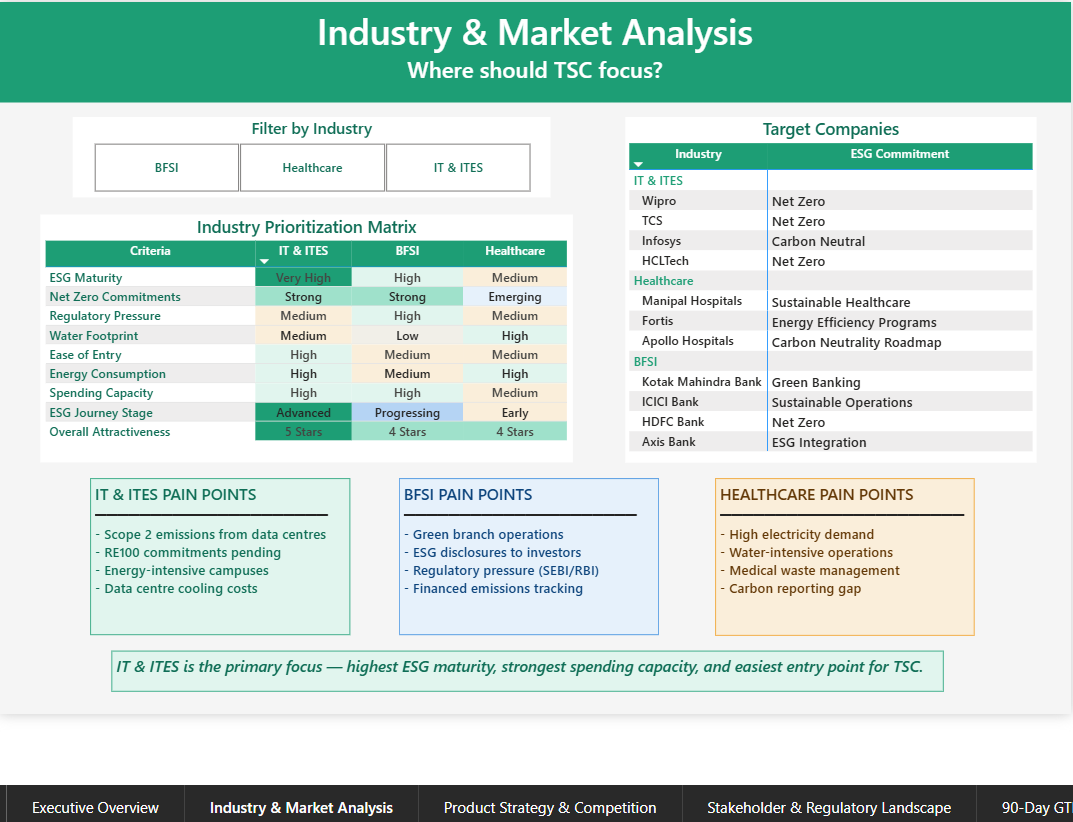

Layout of this report page (visuals, bound fields, positions):
{"tool":"powerbi","page":{"name":"Industry & Market Analysis","canvas":[1280,850],"ordinal":1},"visuals":[{"type":"textbox","title":"Industry & Market Analysis","box":[0,0,1279.8,119.7],"z":0},{"type":"tableEx","title":"Industry Prioritization Matrix","fields":{"Values":["1_industry_matrix.Criteria","1_industry_matrix.IT & ITES","1_industry_matrix.BFSI","1_industry_matrix.Healthcare"]},"box":[49.1,254.4,636.1,296],"z":1000},{"type":"pivotTable","title":"Target Companies","fields":{"Rows":["2_companies_and_products_fixed.Industry","2_companies_and_products_fixed.Company"],"Values":["Min(2_companies_and_products_fixed.ESG Commitment)"]},"box":[748.2,137.3,491.3,413.2],"z":2000},{"type":"textbox","box":[108.7,568,310,187.2],"z":3000},{"type":"textbox","box":[477.2,568.2,310,187.3],"z":4000},{"type":"textbox","box":[855.3,568.1,309.9,187.7],"z":5000},{"type":"textbox","box":[135,774.4,993.9,49.1],"z":6000},{"type":"slicer","title":"Filter by Industry","fields":{"Values":["2_companies_and_products_fixed.Industry"]},"box":[88.2,137.3,570.6,95.7],"z":7000}]}

Visuals, with their boxes on the page's 1280x850 design canvas (x1, y1, x2, y2). These are canvas units, not pixel positions in the 1073x822 screenshot, which may show the page scaled, cropped or inside an application window:
"Industry & Market Analysis" textbox: detection(0, 0, 1280, 120)
"Industry Prioritization Matrix" tableEx: detection(49, 254, 685, 550)
"Target Companies" pivotTable: detection(748, 137, 1240, 550)
textbox: detection(109, 568, 419, 755)
textbox: detection(477, 568, 787, 756)
textbox: detection(855, 568, 1165, 756)
textbox: detection(135, 774, 1129, 824)
"Filter by Industry" slicer: detection(88, 137, 659, 233)
